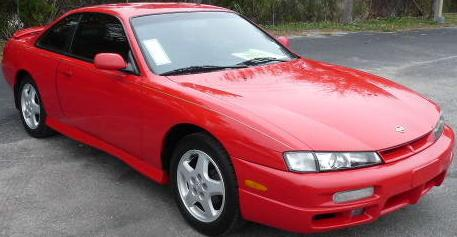front_view: (251, 81, 457, 223)
headlight: (246, 121, 389, 182)
side_glass: (9, 14, 155, 85)
